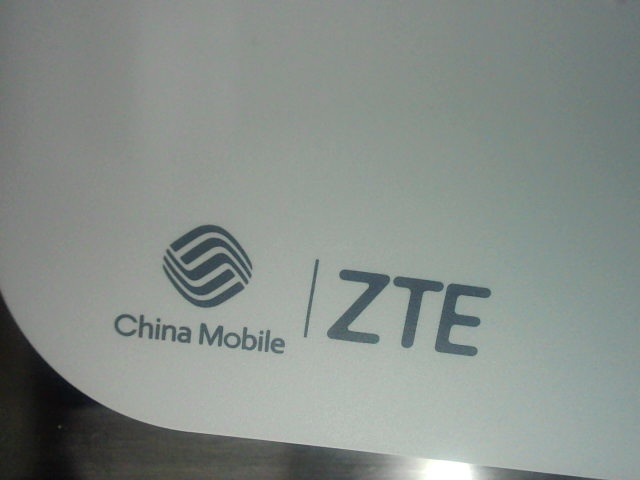AL_ZTEChinaMobile: (92, 223, 511, 361)
